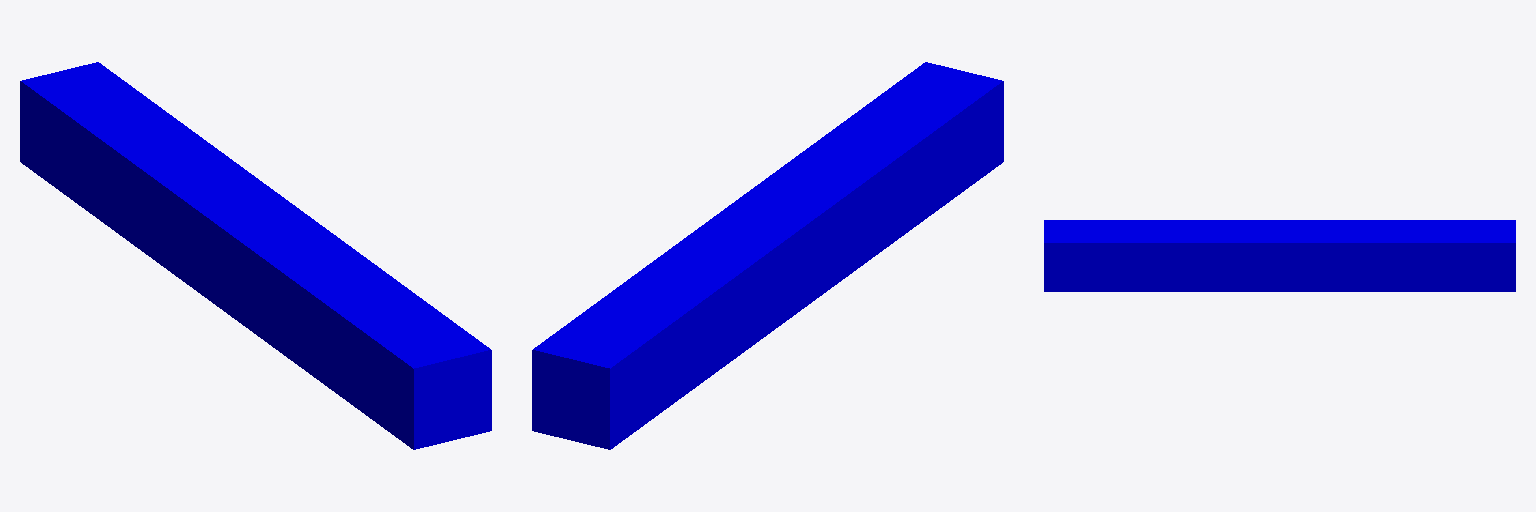
robot.urdf — cube.urdf:
<?xml version="1.0" ?>
<robot name="cube.urdf">
  <link name="cube">
    <contact>
    	<friction_anchor/>
      <lateral_friction value="1.0"/>
    </contact>
    <inertial>
      <origin rpy="0 0 0" xyz="0 0 0"/>
       <mass value="0.491"/>
       <inertia ixx="1" ixy="0" ixz="0" iyy="1" iyz="0" izz="1"/>
    </inertial>
    <visual>
      <origin rpy="0 0 0" xyz="0 0 0"/>
      <geometry>
        <box size="0.08 0.70 .08" />
      </geometry>
      <material name="blue">
       <color rgba="0.0 0.0 1.0 1.0"/>
     </material>
    </visual>
    <collision>
      <origin rpy="0 0 0" xyz="0 0 0"/>
      <geometry>
				<box size="0.08 0.70 .08" />
      </geometry>
    </collision>
  </link>
</robot>

--- Render facts (derived) ---
3 views of the same robot in one strip: view 1: azimuth 30°, elevation 25°; view 2: azimuth 150°, elevation 25°; view 3: azimuth 270°, elevation 25° (orthographic).
Robot: cube.urdf — 1 links, 0 joints (none); root link cube; default pose: every joint at zero.
Links seen in each view (by area): view 1: cube; view 2: cube; view 3: cube.
Boxes of the visible links, <box> form: cube: <box>20,62,491,449</box>; cube: <box>532,62,1003,449</box>; cube: <box>1044,220,1515,291</box>.
Bounding box of the posed robot: 0.08 × 0.7 × 0.08 m (x, y, z).
Geometry: primitives only (box / cylinder / sphere), no mesh files.
